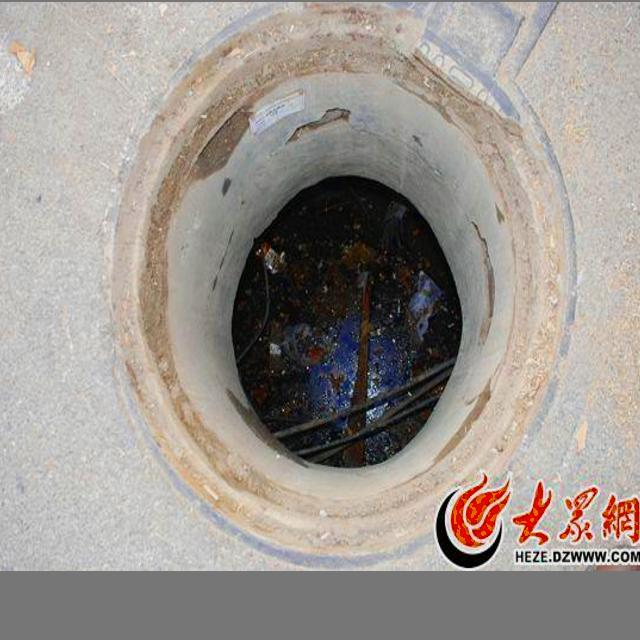lose: (102, 6, 585, 559)
